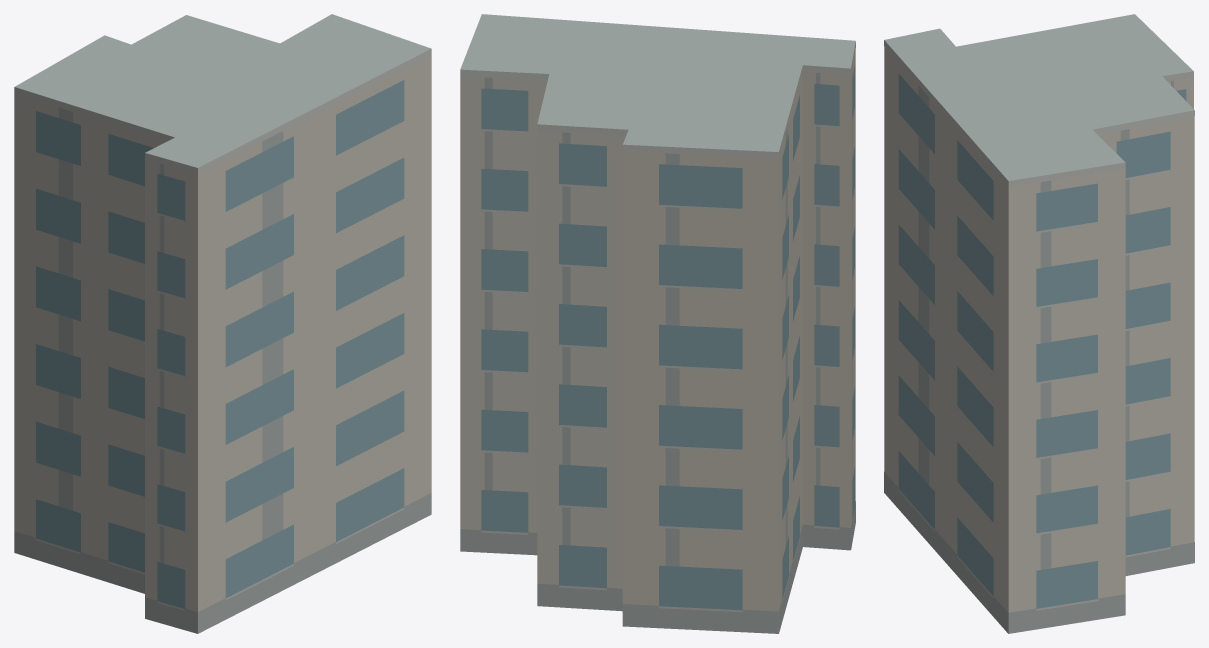
File: survey-upis-32639563.glb
3 views of the same model, side by side, from view 1: azimuth 30°, elevation 25°; view 2: azimuth 150°, elevation 25°; view 3: azimuth 270°, elevation 25° (orthographic). The views are drawn at different scales.
Visible parts, largest first — view 1: survey-upis-32639563.tmp; view 2: survey-upis-32639563.tmp; view 3: survey-upis-32639563.tmp.
Part boxes in pixels (x1,y1,x2,y2): survey-upis-32639563.tmp: (14,14,431,633); survey-upis-32639563.tmp: (460,14,855,633); survey-upis-32639563.tmp: (884,14,1194,633).
Bounding box in the file's own units: 13.97 × 17.65 × 10.98.
